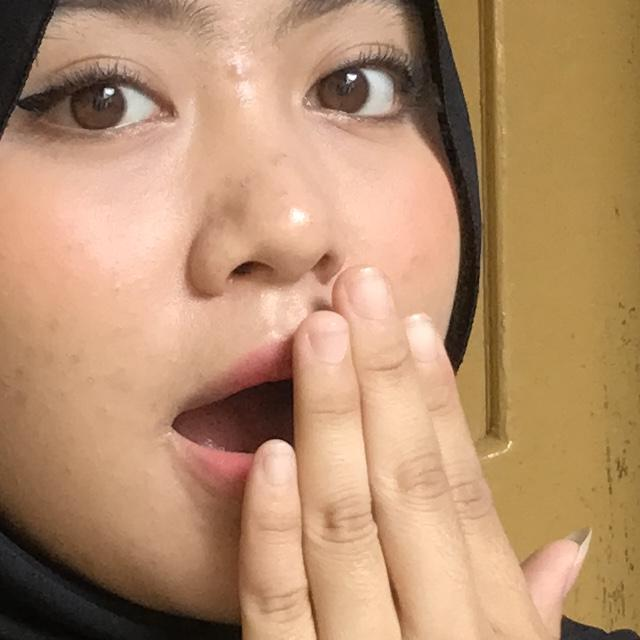ngantuk: (205, 261, 640, 640)
